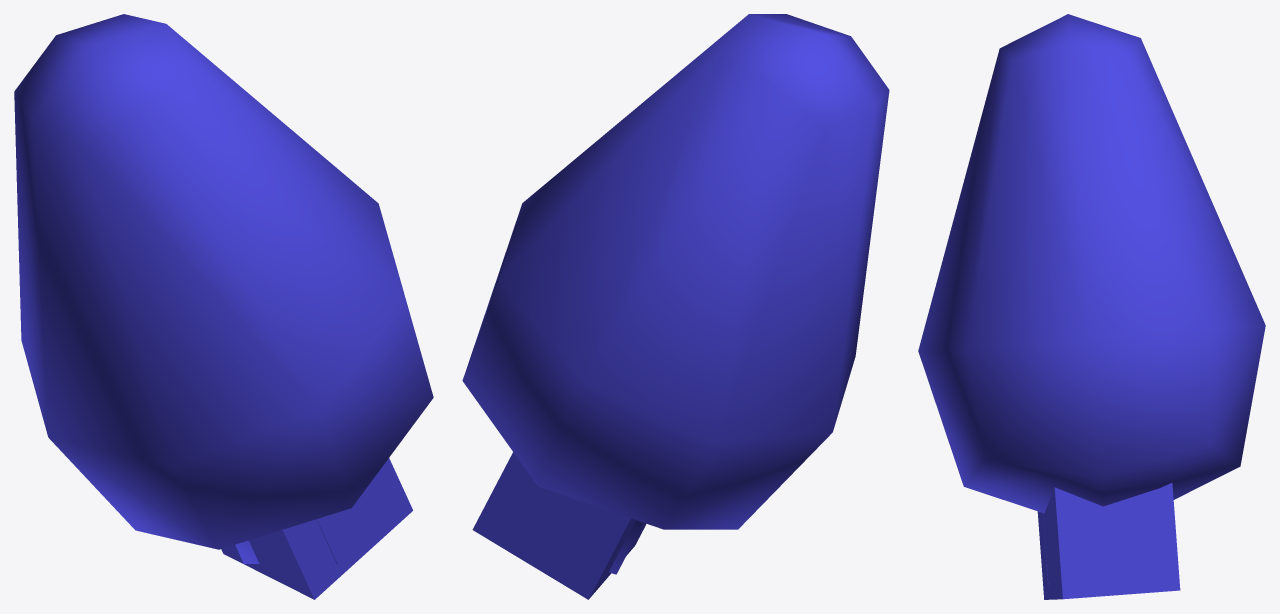
The model's file is Light 4.fbx.
3 views of the same model, side by side, from view 1: azimuth 30°, elevation 25°; view 2: azimuth 150°, elevation 25°; view 3: azimuth 270°, elevation 25° (orthographic). The views are drawn at different scales.
Parts seen in each view (by area): view 1: Cube.008; view 2: Cube.008; view 3: Cube.008.
Boxes of the visible parts, x1,y1,x2,y2 form: Cube.008: (14,14,433,599); Cube.008: (462,14,889,599); Cube.008: (918,14,1265,599).
Bounding box in the file's own units: 18.69 × 27.86 × 17.5.
